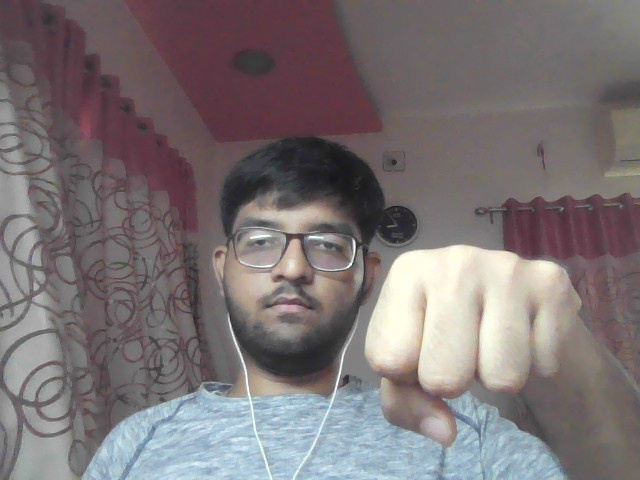હા: (359, 227, 611, 448)
